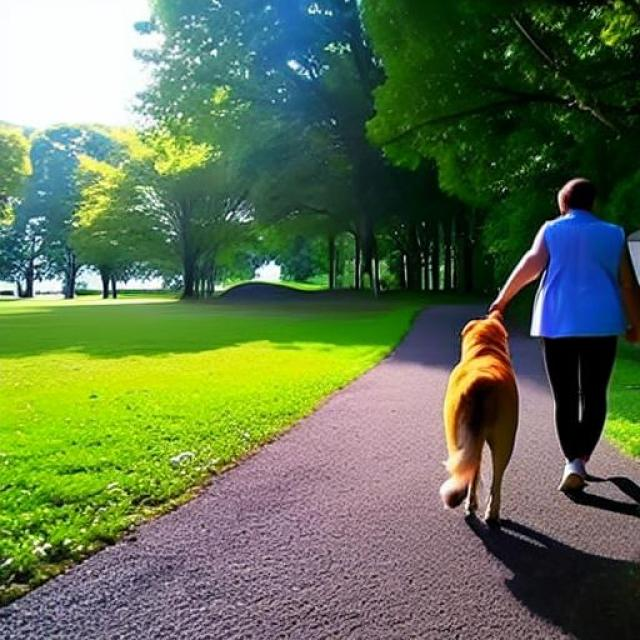Unleashed_Dog: (439, 306, 617, 528)
